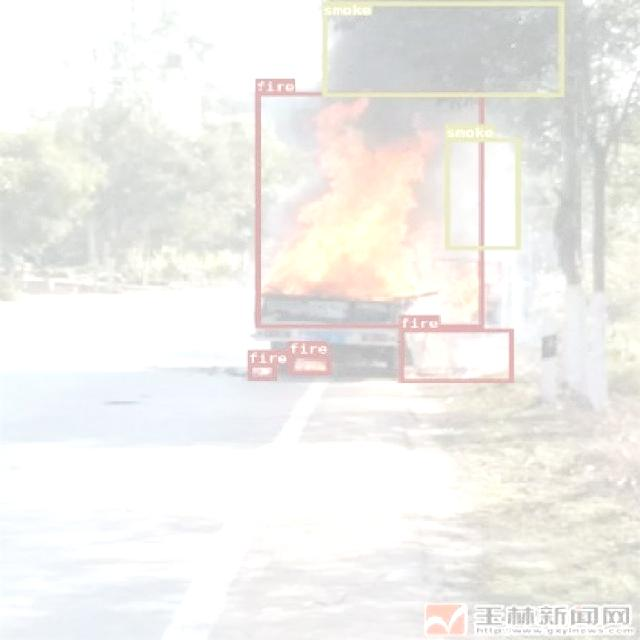fire: (254, 90, 483, 328), (398, 328, 514, 382), (288, 353, 330, 375), (247, 363, 276, 379)
smoke: (322, 1, 564, 96), (444, 136, 520, 250)
